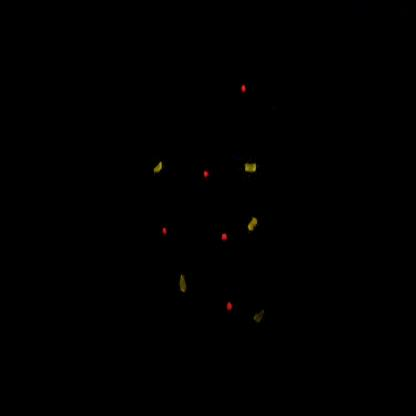PET: (235, 73, 257, 112), (197, 160, 222, 194), (220, 293, 244, 327), (215, 221, 238, 256), (156, 215, 181, 245)
PP: (249, 285, 291, 339), (236, 153, 264, 188), (245, 208, 266, 249), (148, 148, 172, 183), (172, 266, 191, 305)
